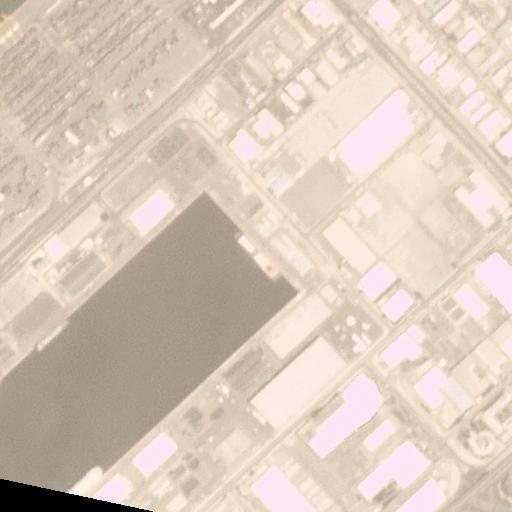ship: (232, 231, 280, 281), (35, 319, 70, 353)
